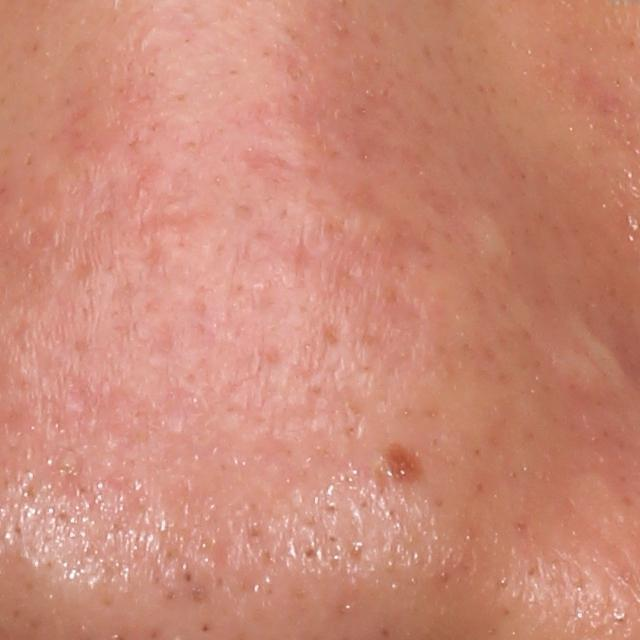hypertrophic_scar: (472, 211, 521, 272)
